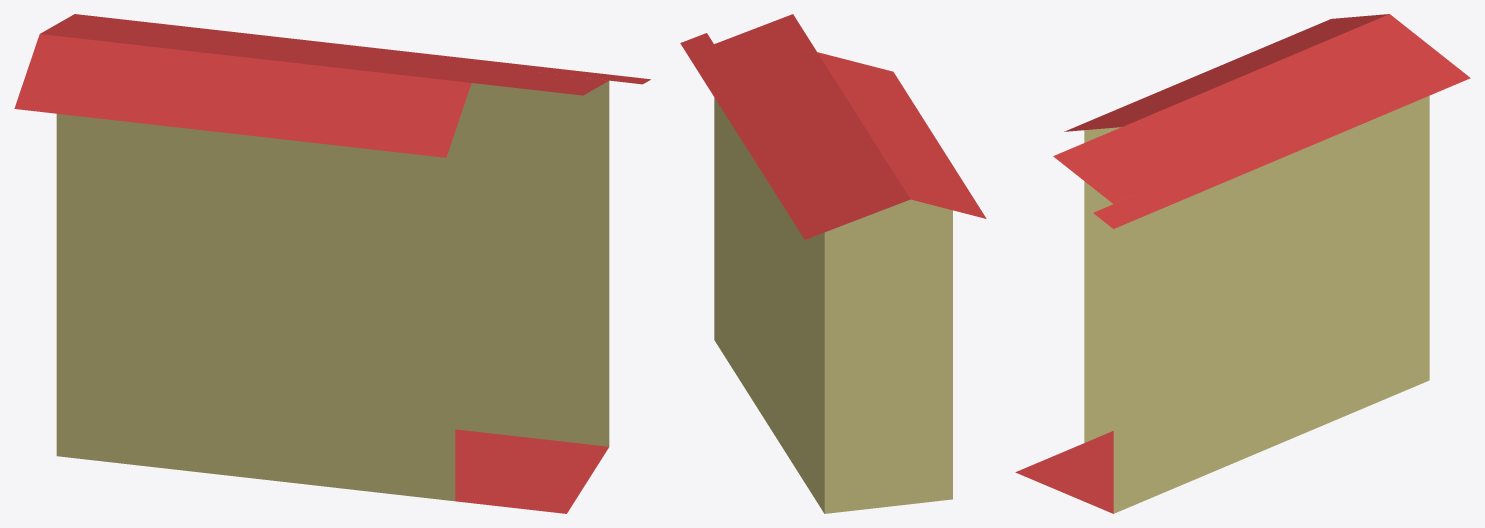
3 renders of one model, left to right at view 1: azimuth 30°, elevation 25°; view 2: azimuth 150°, elevation 25°; view 3: azimuth 270°, elevation 25°, orthographic. The views are drawn at different scales.
Size of the model in its own units: 12.79 by 11.73 by 9.43.
